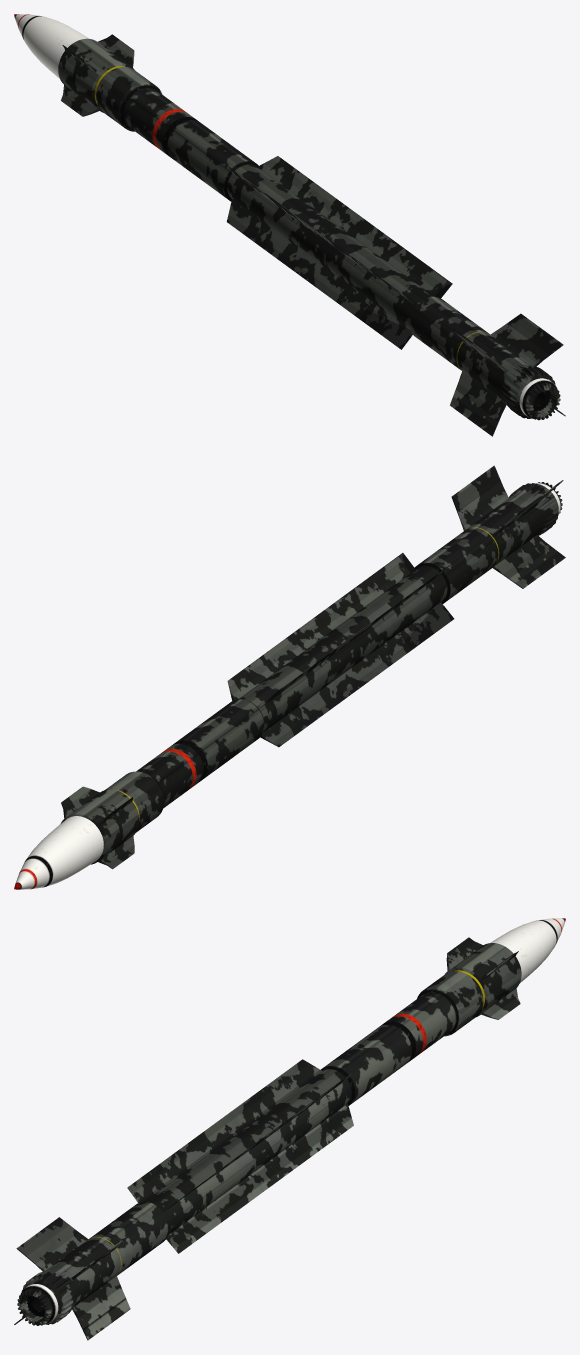
File: mica_anti_aircraft_missile_-free.glb
3 views of the same model, one above another, from view 1: azimuth 30°, elevation 25°; view 2: azimuth 150°, elevation 25°; view 3: azimuth 330°, elevation 25° (orthographic).
Visible parts, largest first — view 1: mica-missile; view 2: mica-missile; view 3: mica-missile.
Part boxes in pixels (<box>): mica-missile: <box>14,14,565,436</box>; mica-missile: <box>14,465,565,889</box>; mica-missile: <box>14,918,565,1340</box>.
Bounding box in the file's own units: 0.1613 × 0.1613 × 2.
Materials: 1 (1 with a texture image).
